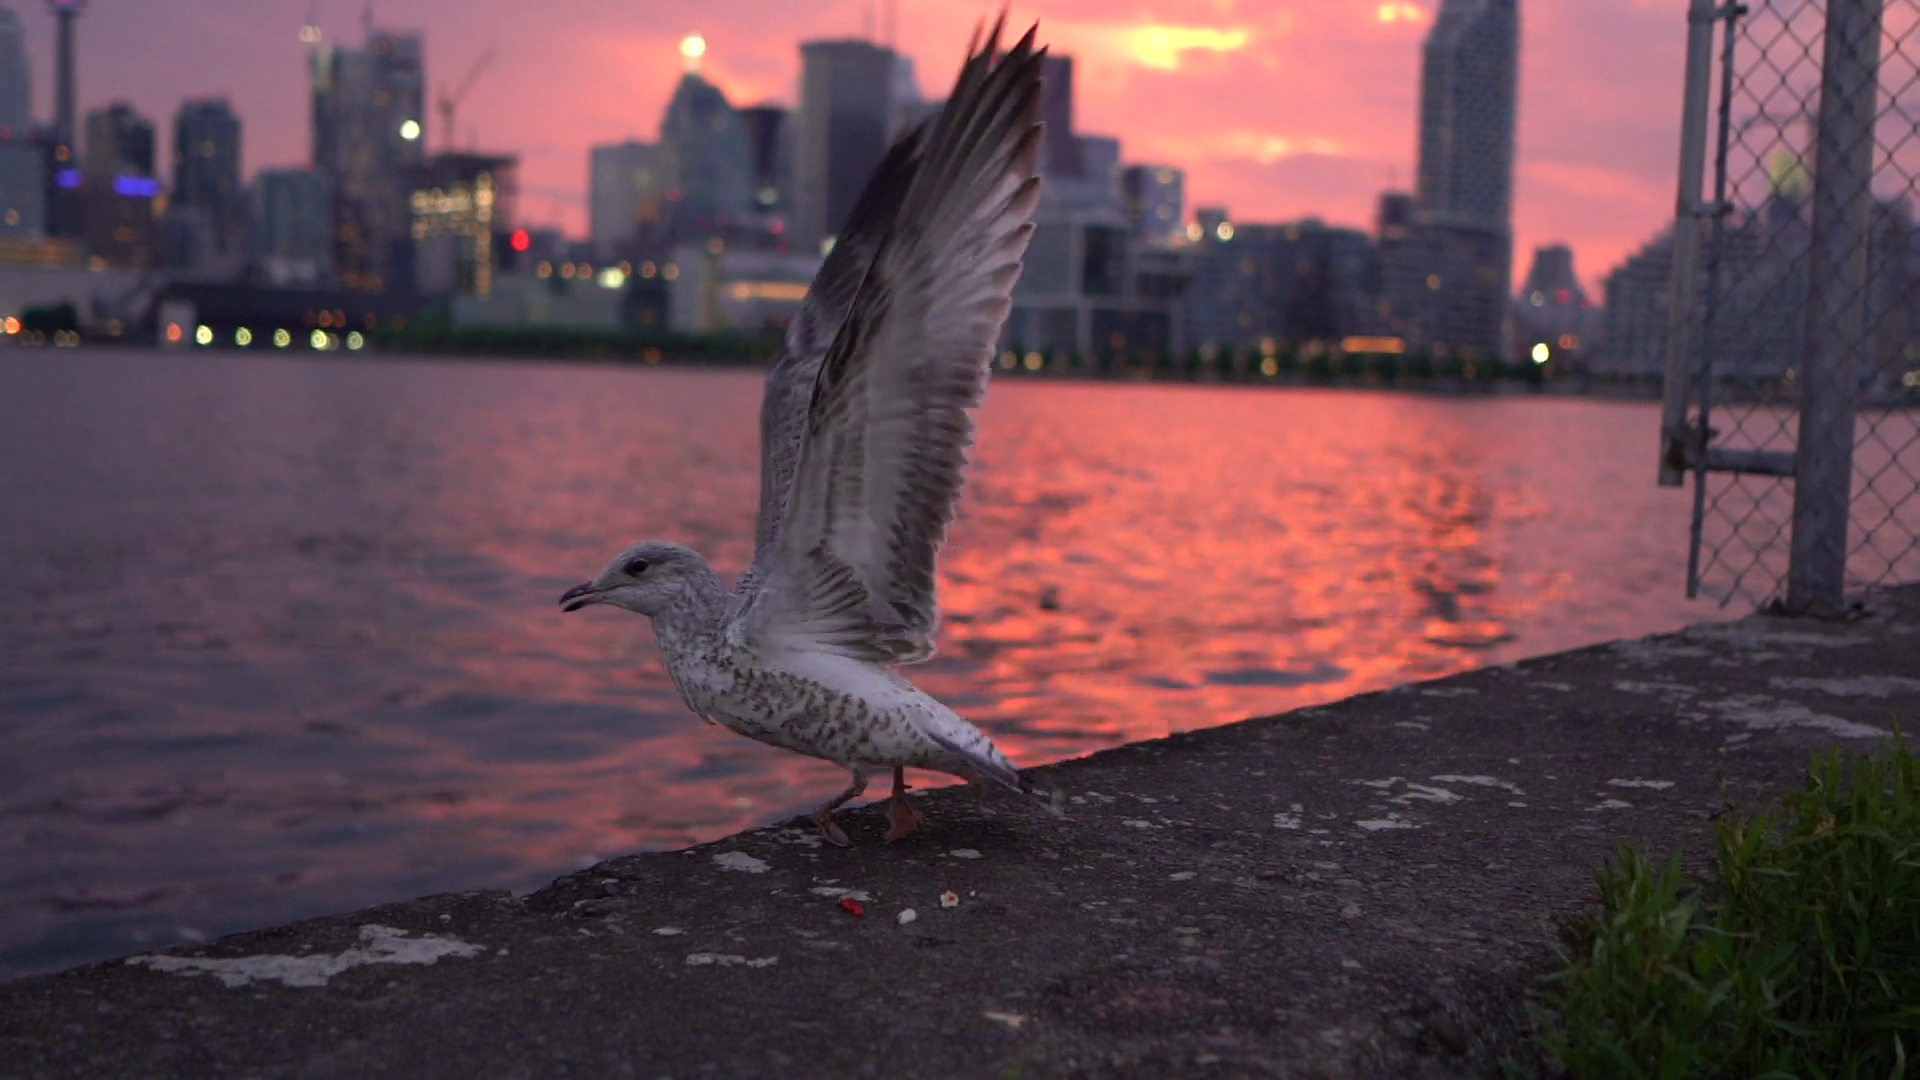bird: (560, 11, 1069, 849)
